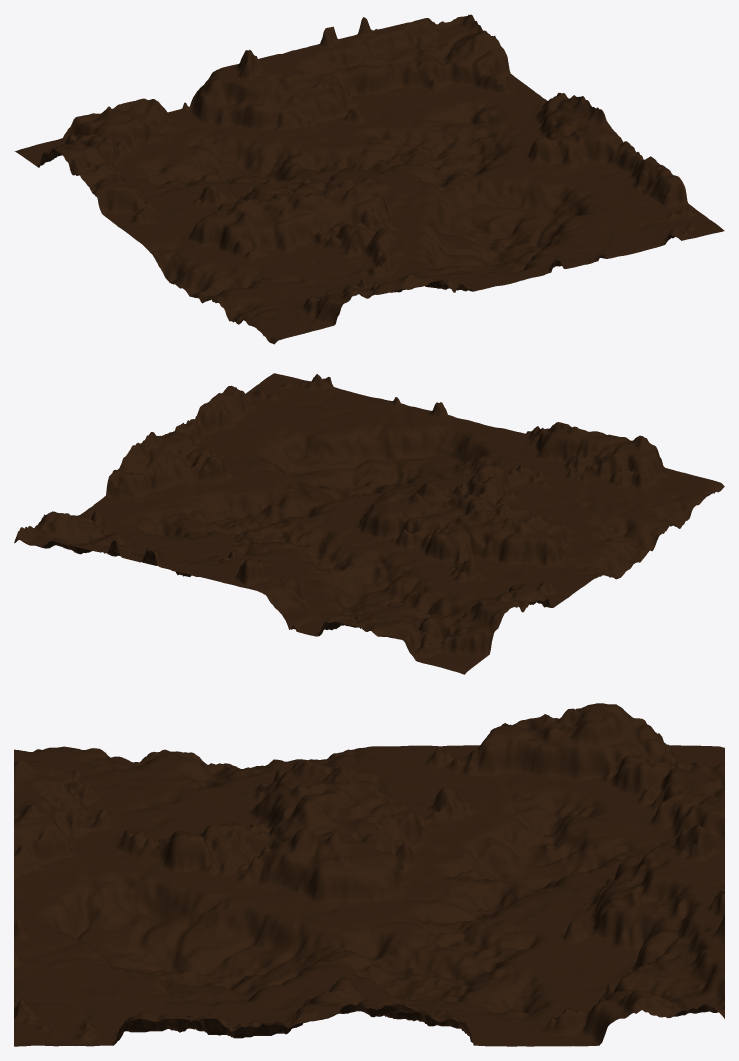
Rendered from 2x2.3_cubes_500m_001.glb.
The picture shows the model from 3 angles, top to bottom: view 1: azimuth 30°, elevation 25°; view 2: azimuth 150°, elevation 25°; view 3: azimuth 270°, elevation 25°; orthographic projection. The views are drawn at different scales.
Visible parts, largest first — view 1: Cube; view 2: Cube; view 3: Cube.
Boxes of the visible parts, box(x1,y1,x2,y2) form: Cube: box(14, 14, 724, 344); Cube: box(14, 373, 724, 674); Cube: box(14, 703, 724, 1046).
Bounding box in the file's own units: 500 × 88.2 × 500.
